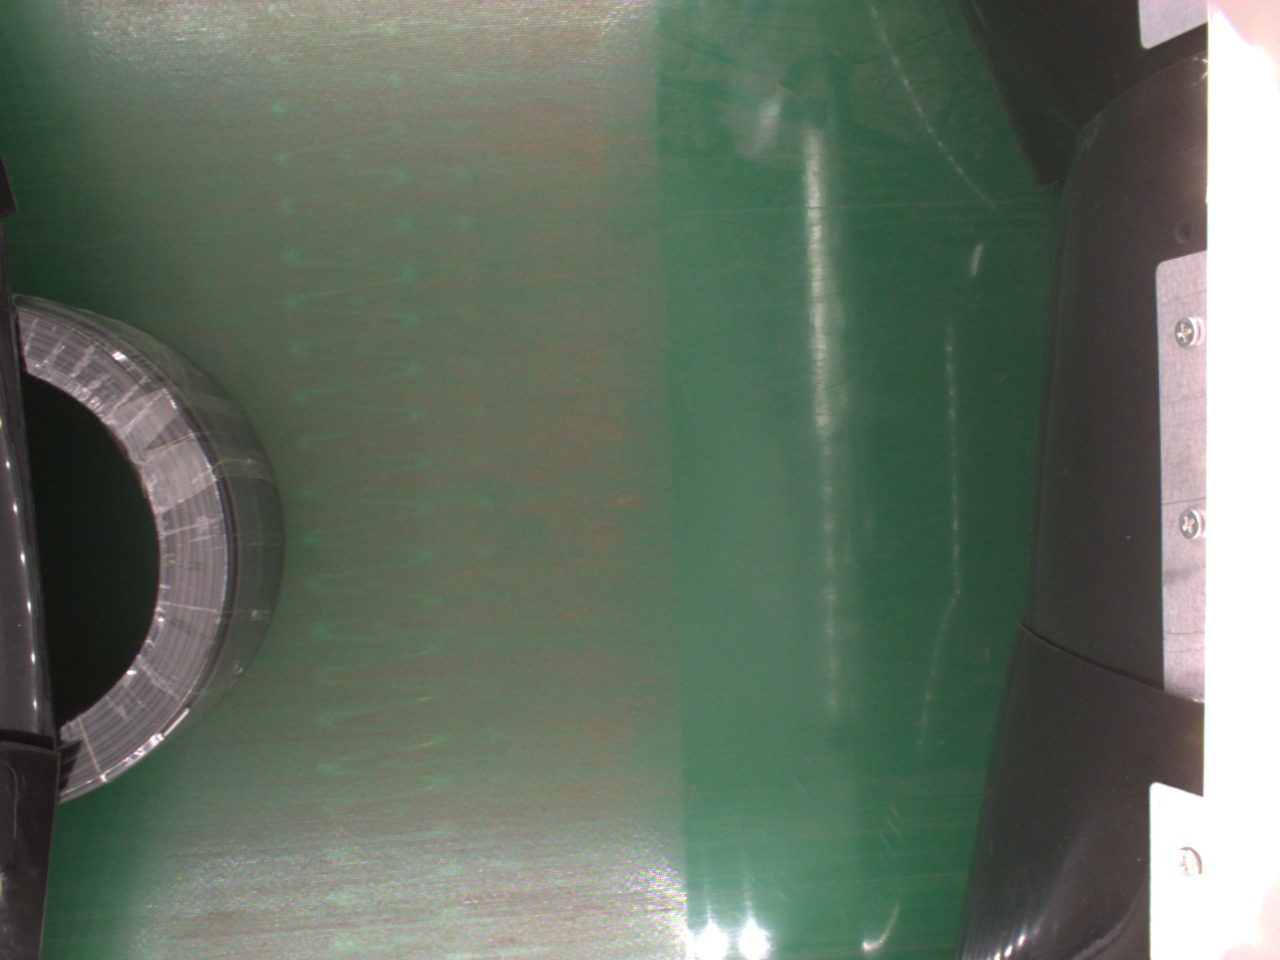black: (18, 296, 289, 805)
